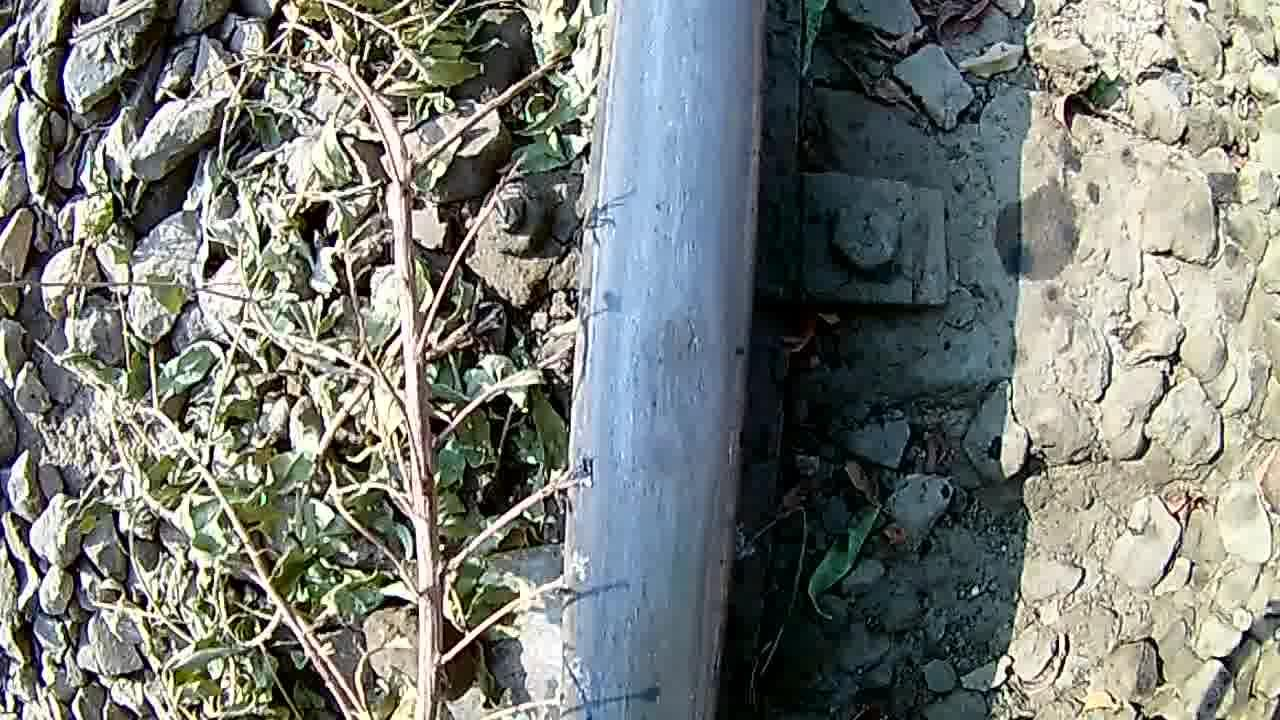bolt_missing: (600, 284, 747, 526)
